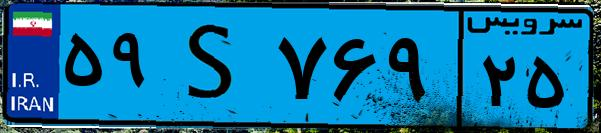2: (475, 38, 525, 113)
5: (57, 26, 110, 100), (525, 38, 570, 115)
6: (330, 28, 385, 110)
7: (270, 28, 330, 110)
9: (385, 28, 445, 110), (110, 28, 158, 98)
S: (158, 12, 270, 120)
